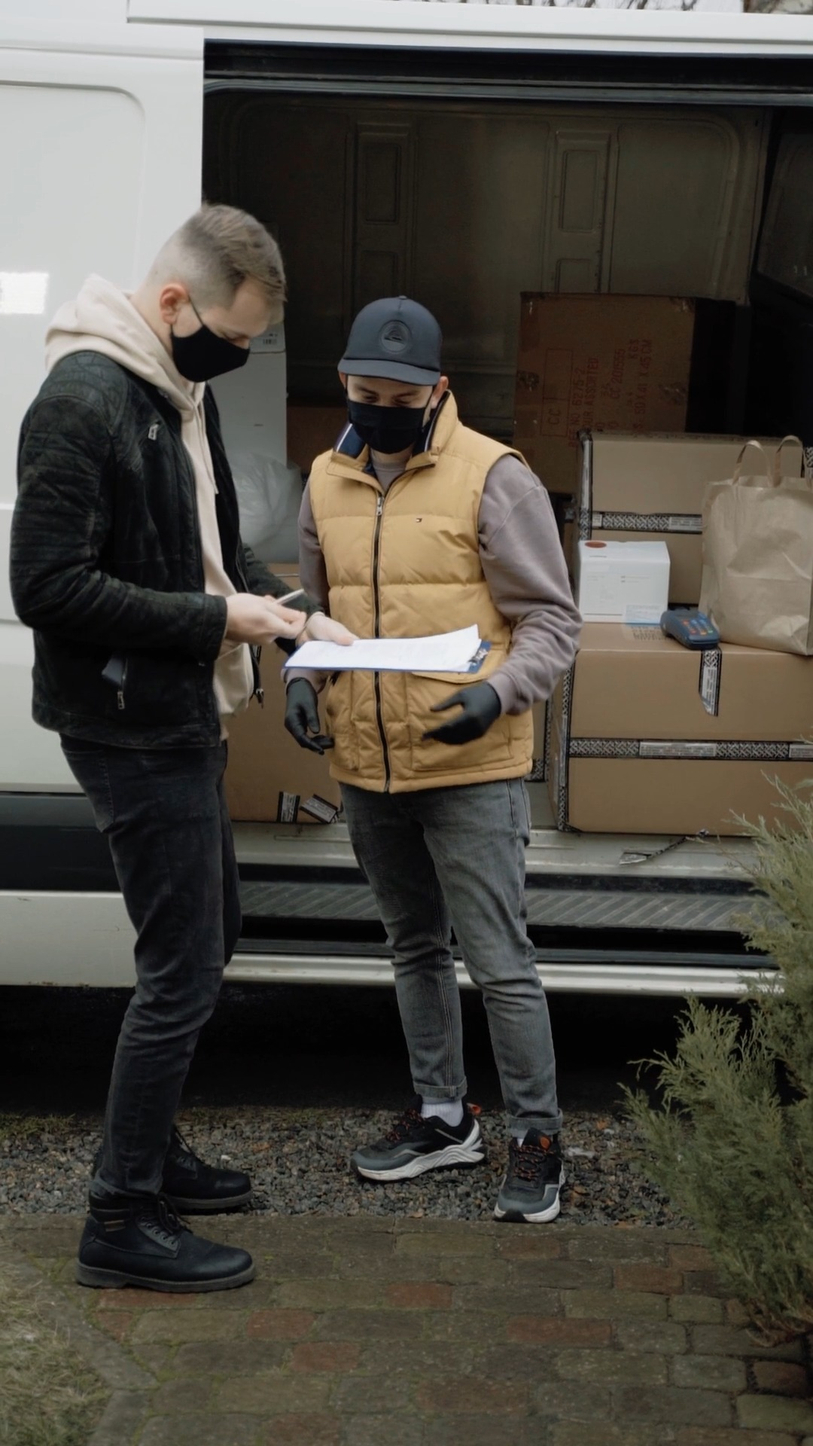No-gloves: (226, 585, 318, 659), (301, 615, 389, 668)
gloves: (415, 673, 514, 761), (264, 675, 349, 748)
